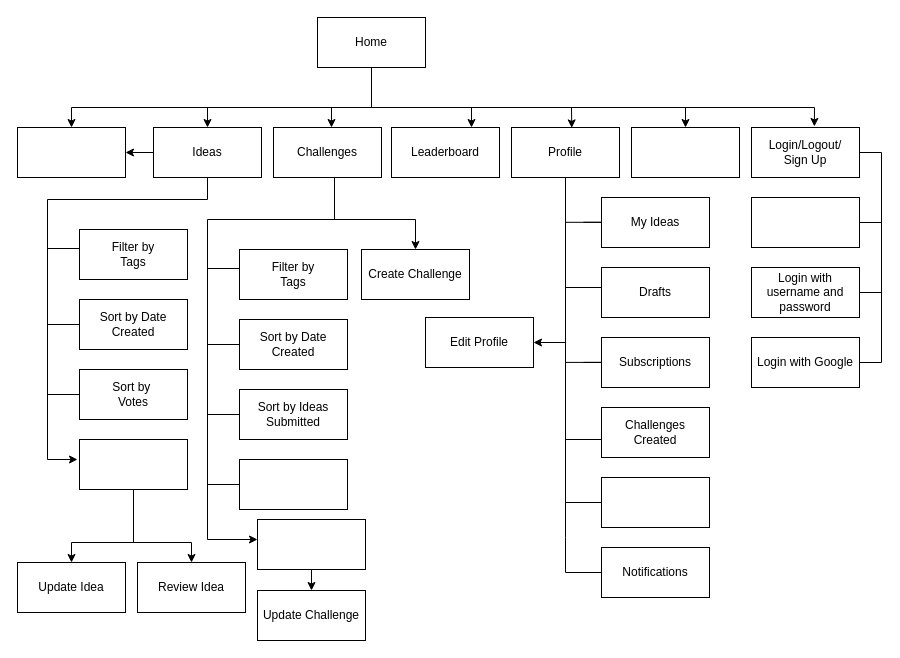
The diagram is 900 pixels wide and 658 high, and some of its shapes have lost their labels. The shapes that lost their labels are listed below. From the top down, each one's centre as x and y in pixels, then its label:
At [71,152]: "Create Idea".
At [685,152]: "Community Guidelines".
At [805,222]: "Login with sso".
At [133,464]: "Idea Detail".
At [293,484]: "Filter Active/Ended".
At [655,502]: "Challenges Drafts".
At [311,544]: "Challenge Detail".
